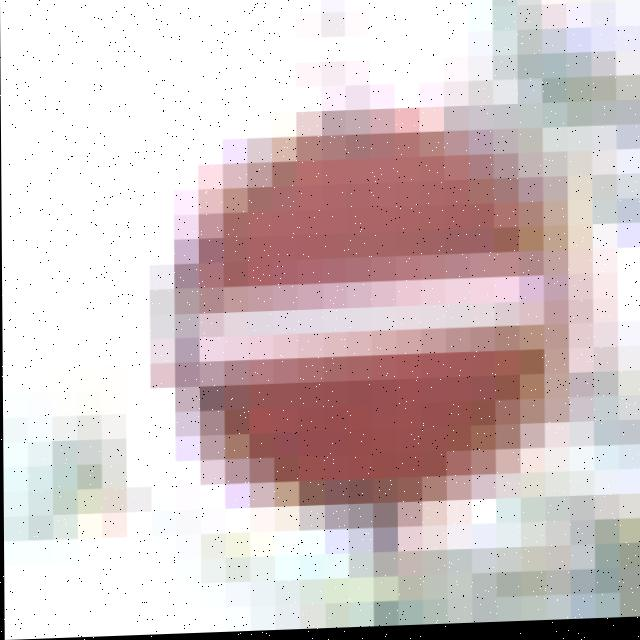road_rough: (116, 79, 613, 536)
